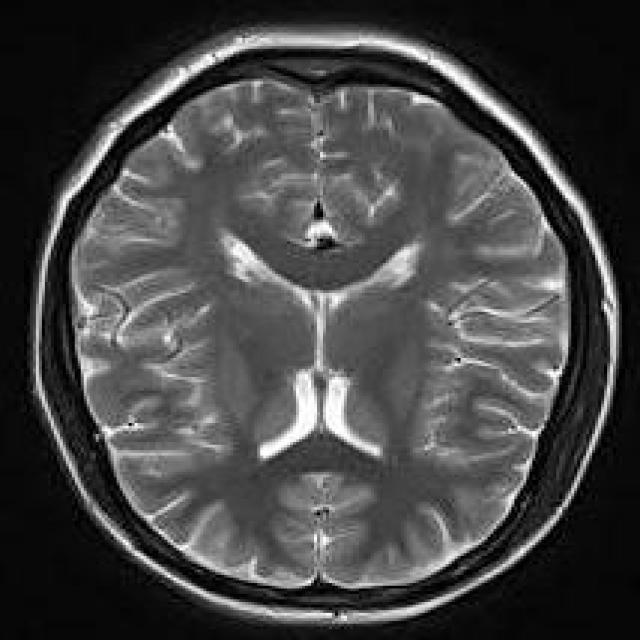notumor: (33, 27, 619, 621)
